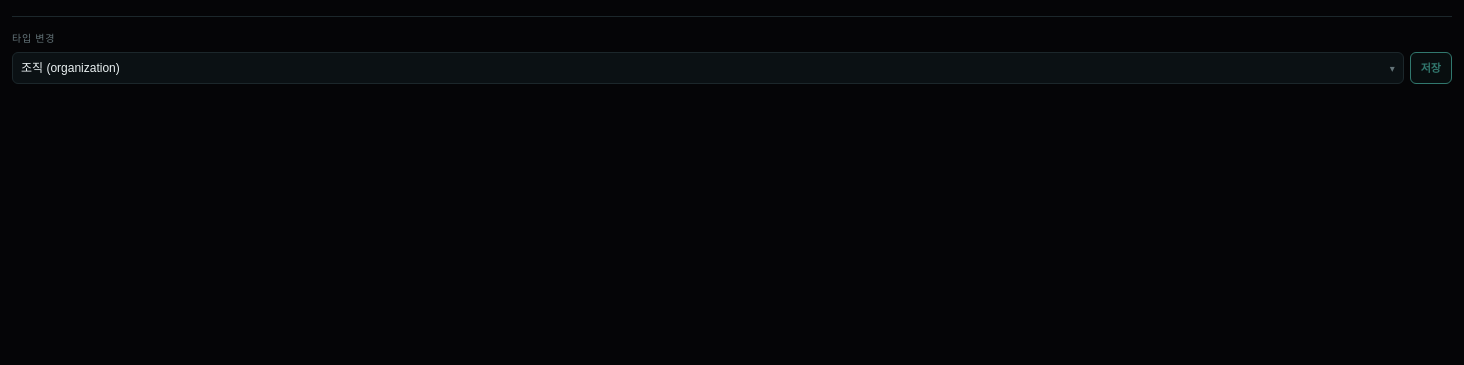
Test: EntityTypeDropdown › renders all 10 entity_type options (PO closed set)
The width and height of the screenshot is (1464, 365).
# Open the listbox.
Click the button with test id "entity-type-select" at x=70, y=68, box [12,52,1404,84]
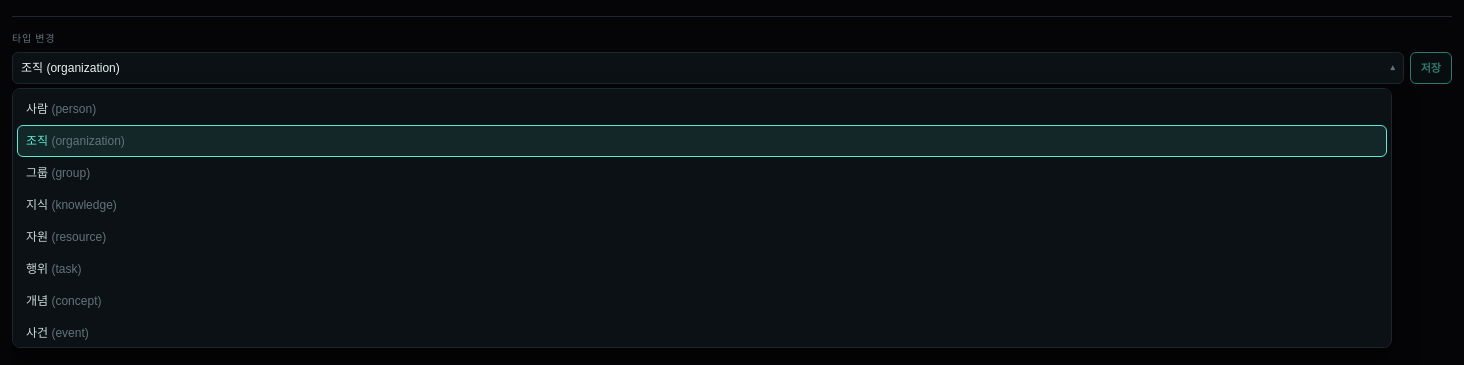
Result: the option with test id "entity-type-option-person" is shown at [17,93,1387,125]
